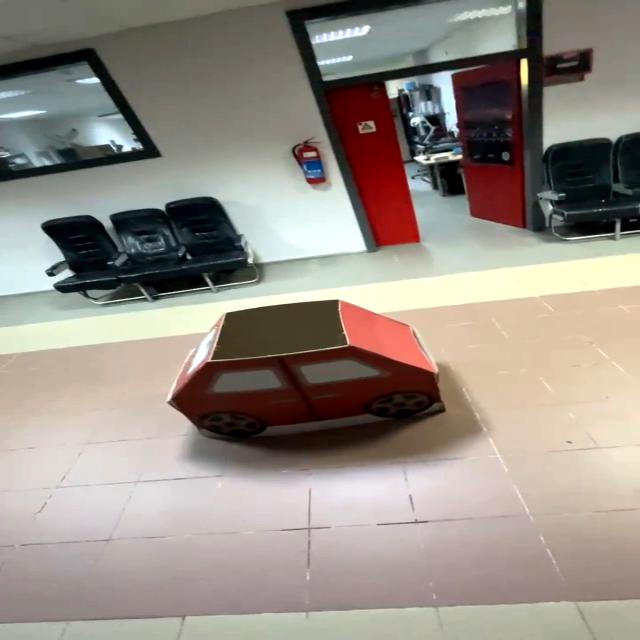red_car: (93, 290, 485, 486)
